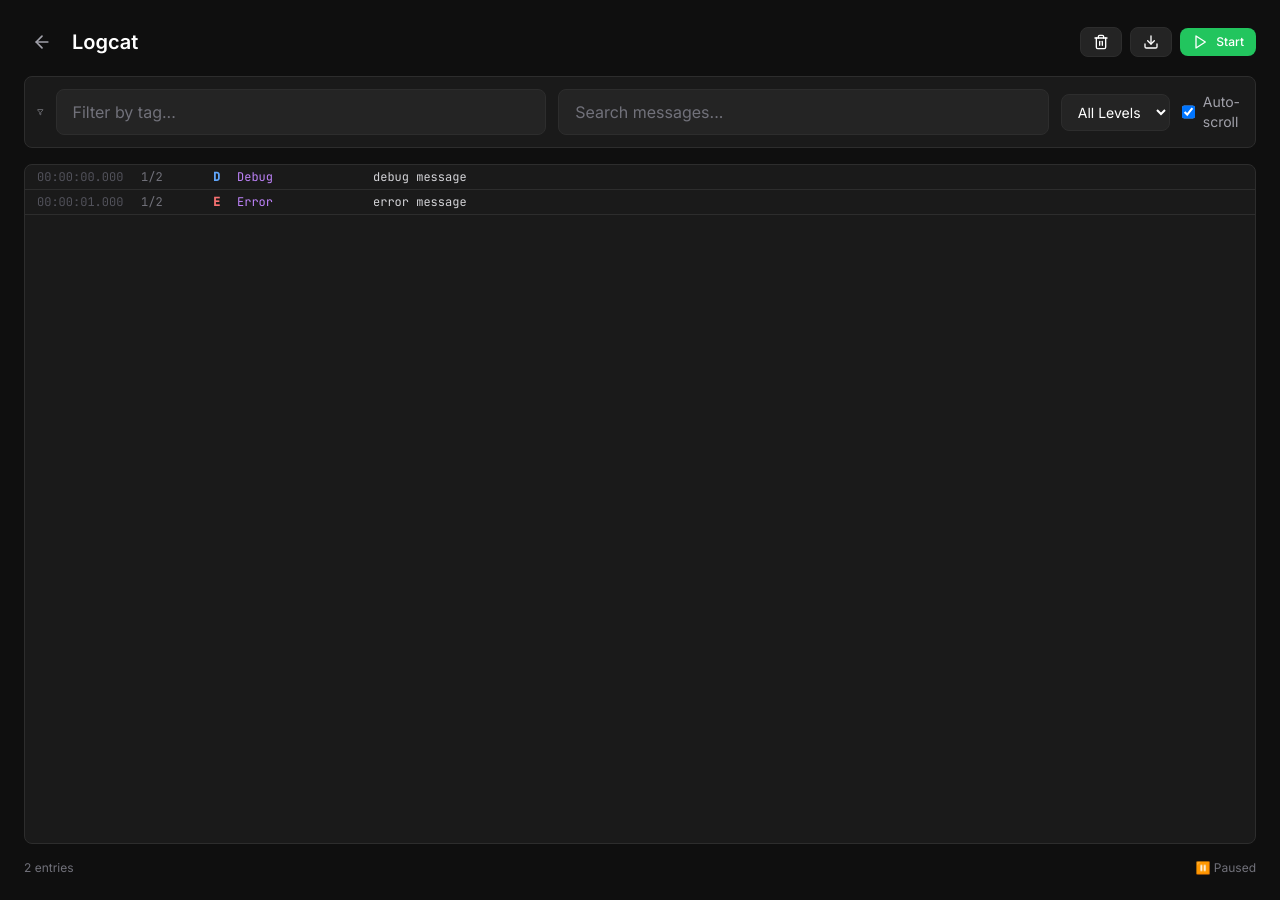
Test: LogcatPage › filters by log level
The width and height of the screenshot is (1280, 900).
Expected: the text "debug message" is shown, [373,169,467,185]
Expected: the text "error message" is shown, [373,194,467,210]
Select "Error" in the dropdown at (1115, 112), box [1061,94,1170,130]
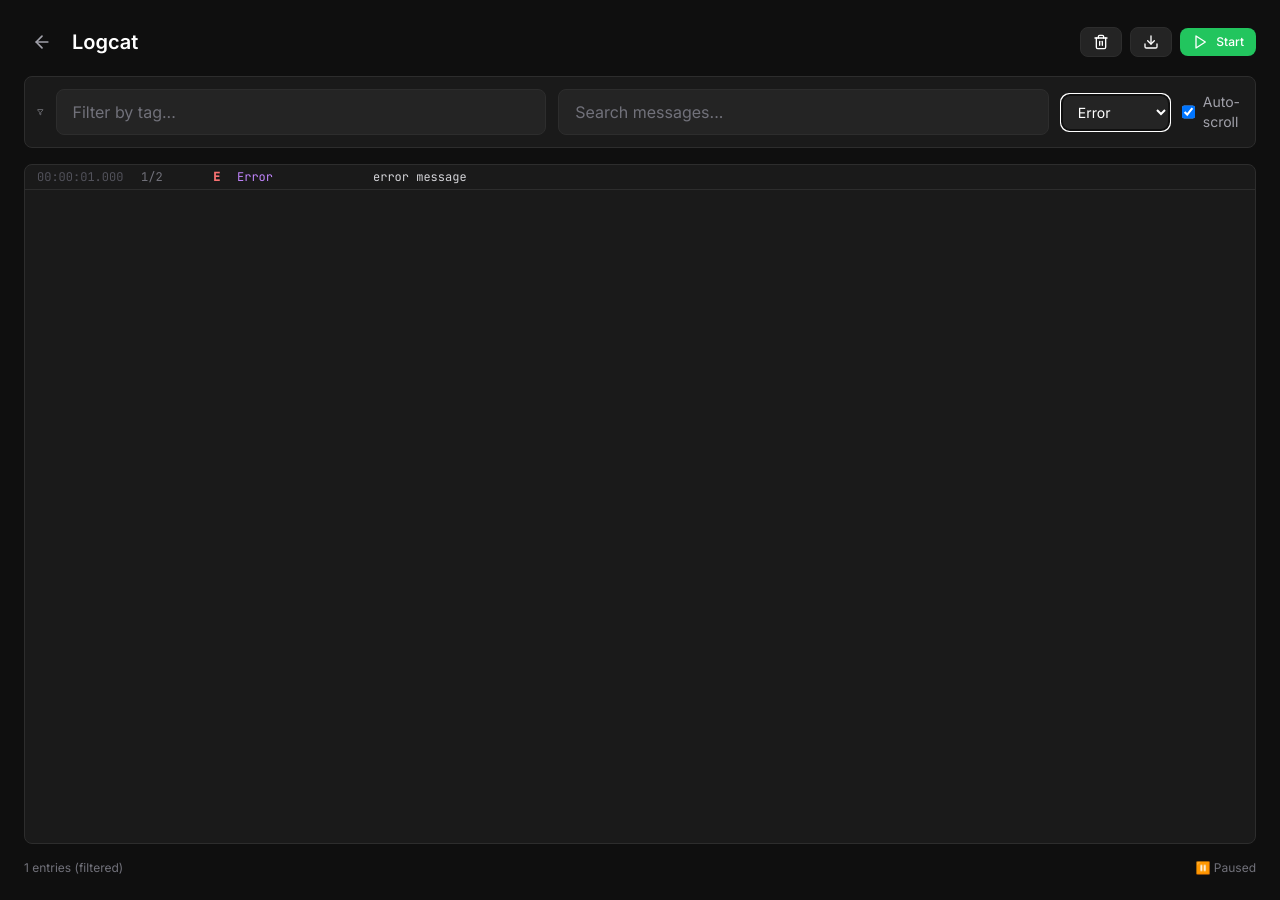
Expected: the text "debug message" is gone
Expected: the text "error message" is shown, [373,169,467,185]
